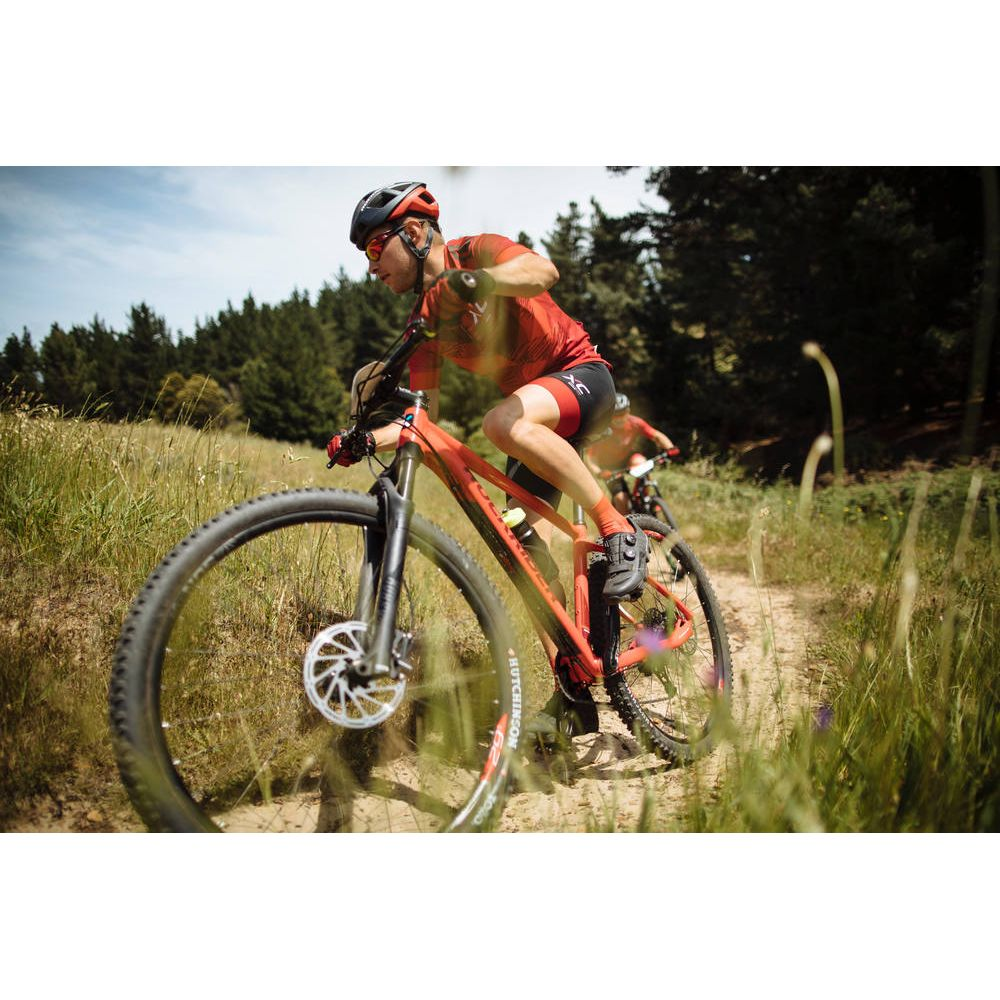RoadBike: (403, 481, 778, 810)
